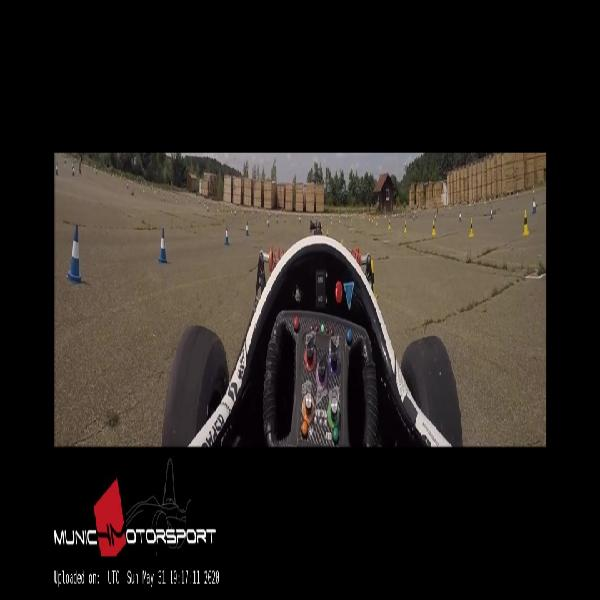blue_cone: (66, 225, 82, 284), (158, 227, 167, 263), (224, 226, 229, 245), (532, 197, 536, 214)
yellow_cone: (371, 260, 377, 298), (523, 210, 529, 234), (468, 217, 474, 237)
